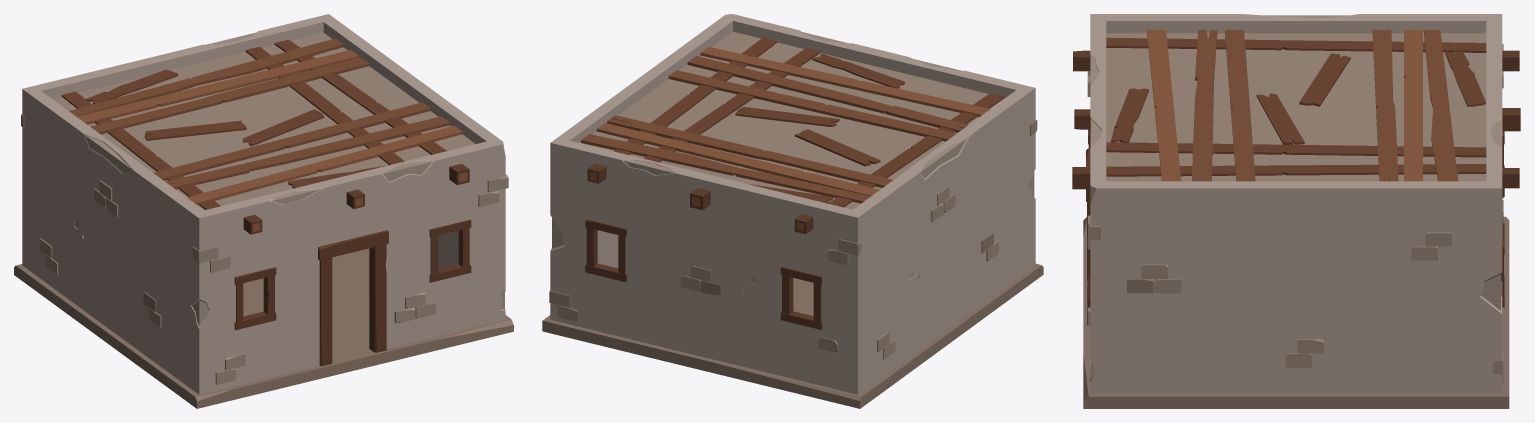
File: House_01.fbx
3 views of the same model, side by side, from view 1: azimuth 30°, elevation 25°; view 2: azimuth 150°, elevation 25°; view 3: azimuth 270°, elevation 25° (orthographic). The views are drawn at different scales.
Parts seen in each view (by area): view 1: House_01; view 2: House_01; view 3: House_01.
Part boxes in pixels (bbox=[...]): House_01: bbox=[14, 14, 513, 408]; House_01: bbox=[542, 14, 1043, 408]; House_01: bbox=[1072, 14, 1520, 408].
Size of the model in its own units: 620 by 350 by 652.
